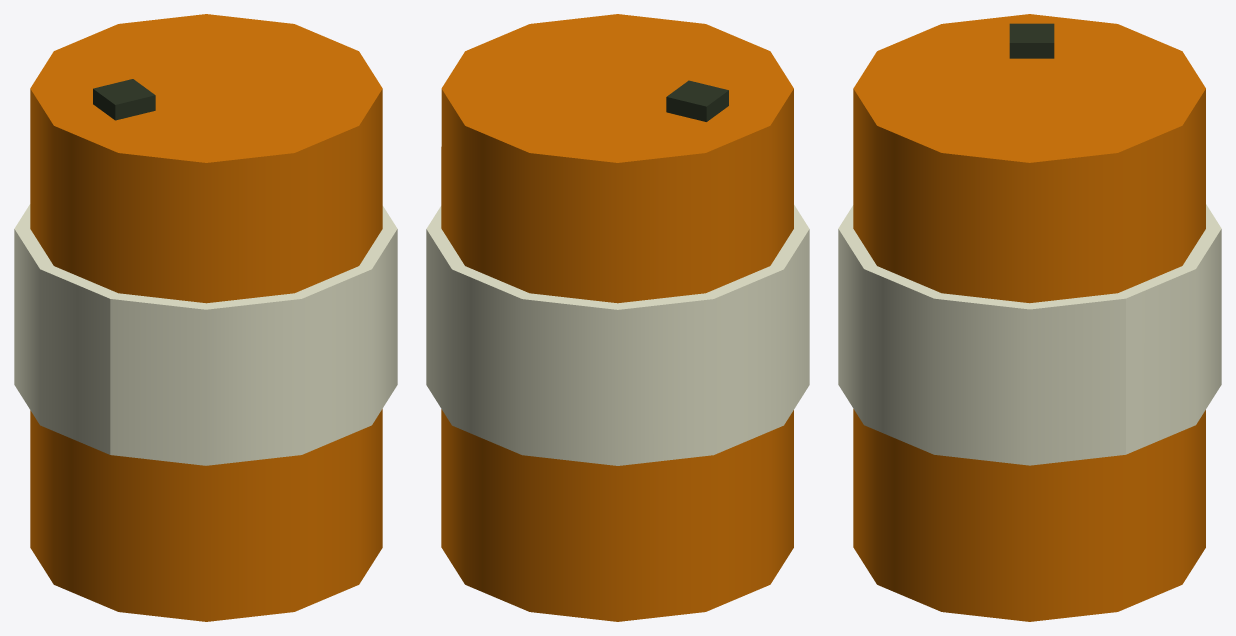
File: barrel_metal1.fbx
The picture shows the model from 3 angles, left to right: view 1: azimuth 30°, elevation 25°; view 2: azimuth 150°, elevation 25°; view 3: azimuth 270°, elevation 25°; orthographic projection.
Visible parts, largest first — view 1: barrel_metal1; view 2: barrel_metal1; view 3: barrel_metal1.
Boxes of the visible parts, x1=… form: barrel_metal1: x1=14, y1=14, x2=397, y2=621; barrel_metal1: x1=426, y1=14, x2=809, y2=621; barrel_metal1: x1=838, y1=14, x2=1221, y2=621.
Size of the model in its own units: 87.84 by 120 by 87.87.
